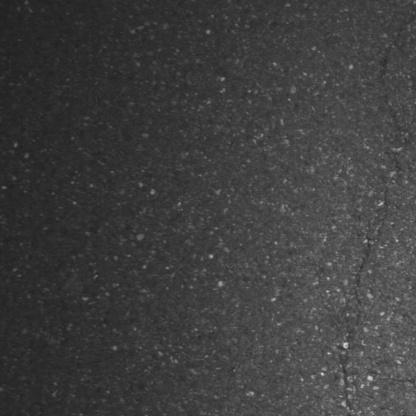Cracks: (336, 0, 416, 416)
